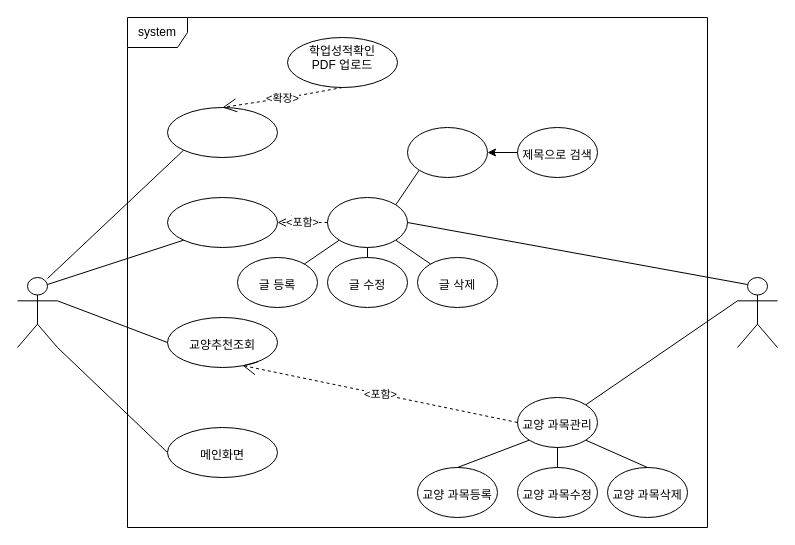
Image size: 795x545. Some labels were removed from this diagram. Each missing label, with the centre of its shape:
게시판: the point at 222,222
게시판 글 관리: the point at 367,222
관리자: the point at 757,312
글 조회: the point at 447,152
사용자: the point at 37,312
졸업요건 조회: the point at 222,132
